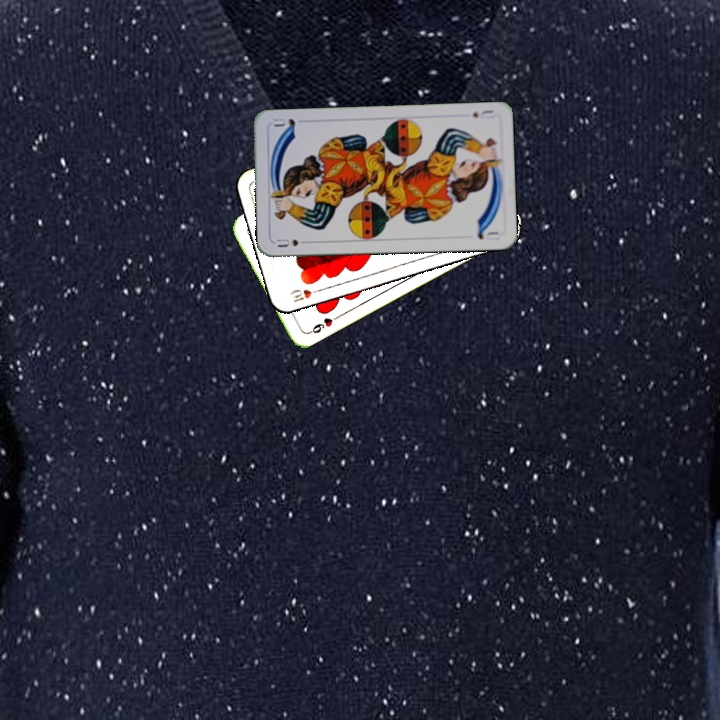H10: (286, 285, 325, 305)
H9: (304, 312, 341, 337)
SU: (272, 235, 312, 250), (468, 105, 497, 122)
